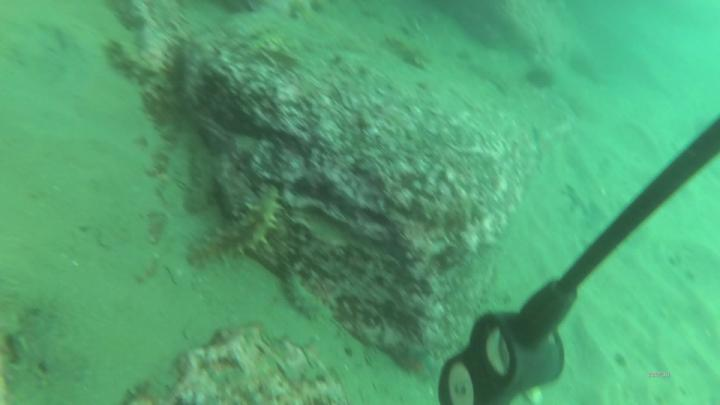holothurian: (183, 182, 285, 273)
